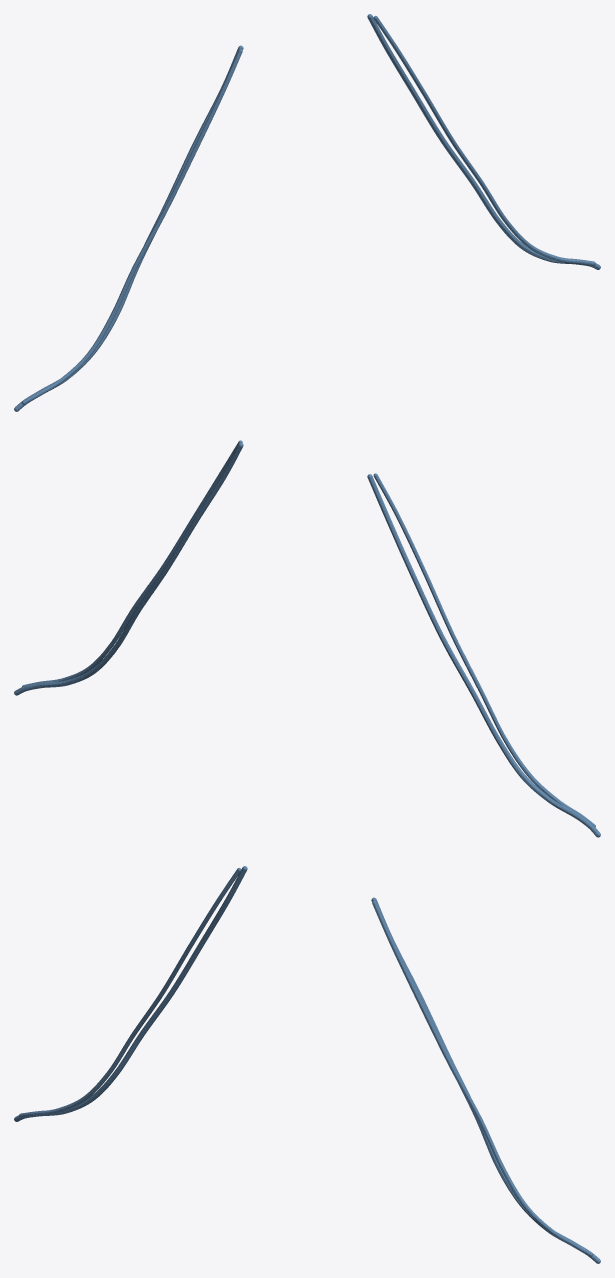
File: arm_veins.glb
3 renders of one model, top to bottom at view 1: azimuth 30°, elevation 25°; view 2: azimuth 150°, elevation 25°; view 3: azimuth 330°, elevation 25°, orthographic.
Visible parts, largest first — view 1: arm_veins; view 2: arm_veins; view 3: arm_veins.
Part boxes in pixels (left/top/right/bottom): arm_veins: left=14, top=14, right=600, bottom=411; arm_veins: left=14, top=440, right=600, bottom=837; arm_veins: left=14, top=866, right=600, bottom=1263.
Bounding box in the file's own units: 0.998 × 0.5031 × 0.0258.
